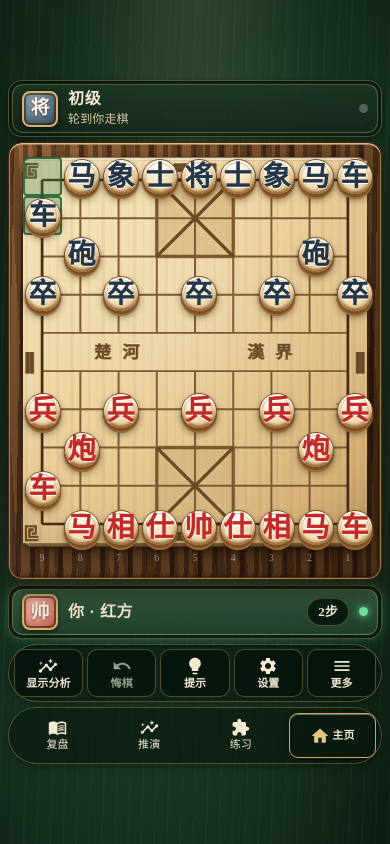
复盘菜单「收藏棋谱」 › stays disabled outside review mode
Click the button "更多" at (342, 673), box [307, 650, 376, 697]
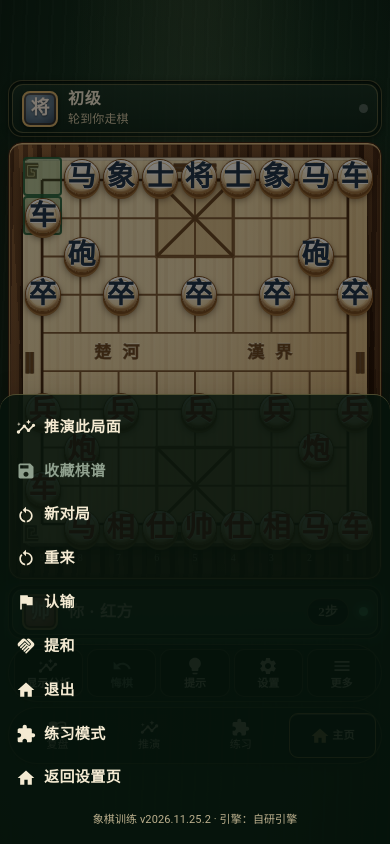
expect the button "收藏棋谱" is disabled: met, box [12, 449, 378, 493]
